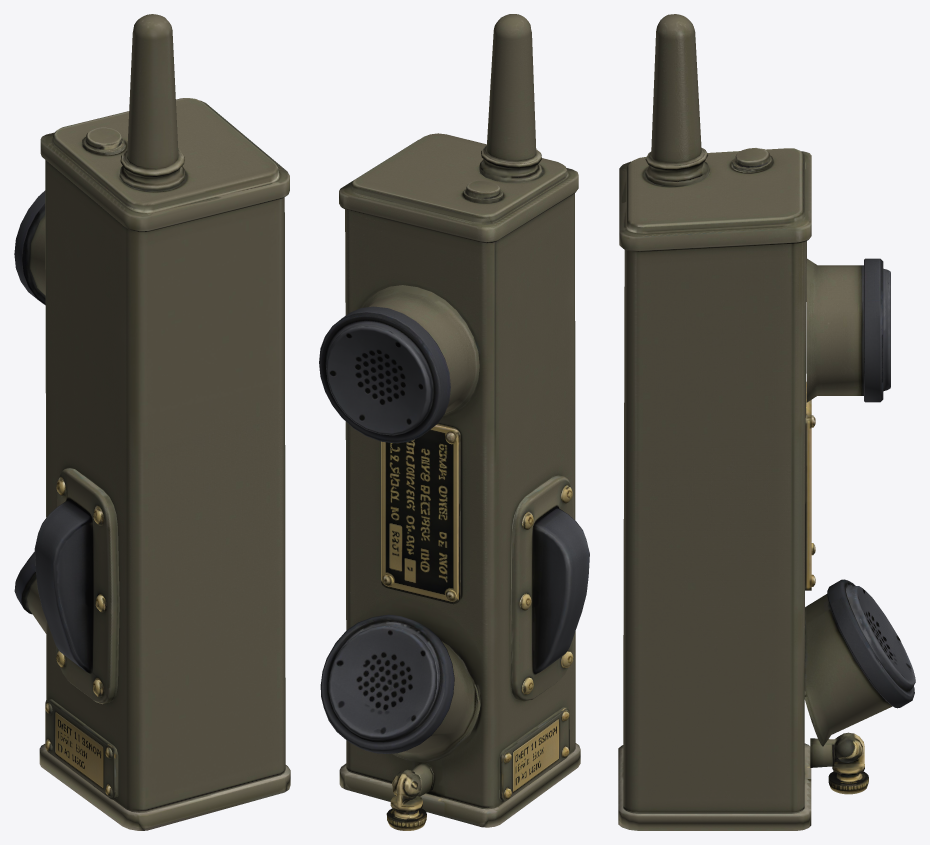
File: OparetionRoom_AI_Prop.012.fbx
The picture shows the model from 3 angles, left to right: view 1: azimuth 30°, elevation 25°; view 2: azimuth 150°, elevation 25°; view 3: azimuth 270°, elevation 25°; orthographic projection. The views are drawn at different scales.
Visible parts, largest first — view 1: OparetionRoom_AI_Prop.012; view 2: OparetionRoom_AI_Prop.012; view 3: OparetionRoom_AI_Prop.012.
Boxes of the visible parts, x1,y1,x2,y2 form: OparetionRoom_AI_Prop.012: (14, 14, 290, 830); OparetionRoom_AI_Prop.012: (319, 14, 589, 830); OparetionRoom_AI_Prop.012: (618, 14, 915, 830).
Size of the model in its own units: 17.52 by 63.69 by 22.49.
